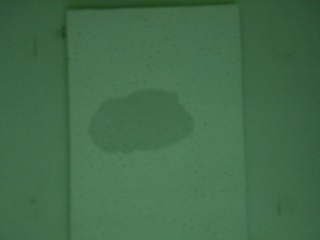Water_detected: (101, 100, 185, 153)
